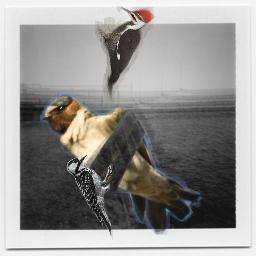Swallow: (40, 93, 202, 235)
Woodpecker: (95, 6, 155, 104), (66, 154, 114, 240)
